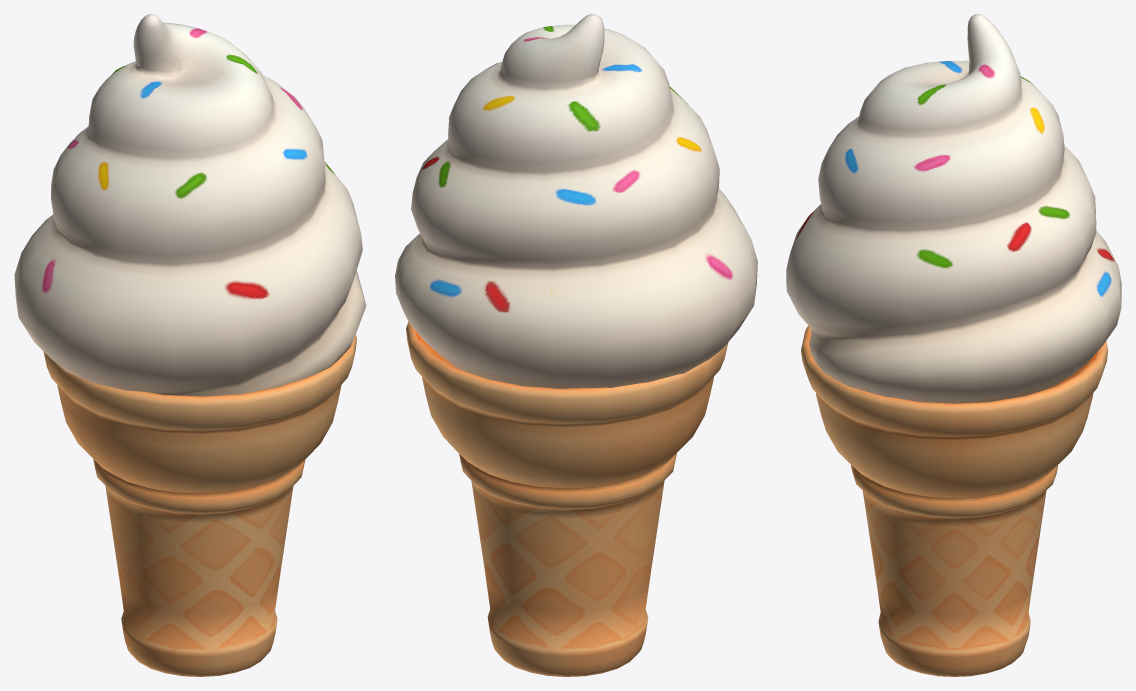
Rendered from BingQiLin4.FBX.
The picture shows the model from 3 angles, left to right: view 1: azimuth 30°, elevation 25°; view 2: azimuth 150°, elevation 25°; view 3: azimuth 270°, elevation 25°; orthographic projection. The views are drawn at different scales.
Visible parts, largest first — view 1: BingQiLin; view 2: BingQiLin; view 3: BingQiLin.
Part boxes in pixels (x1,y1,x2,y2): BingQiLin: (14,14,366,676); BingQiLin: (395,14,757,676); BingQiLin: (786,14,1121,676).
Size of the model in its own units: 52.37 by 104 by 50.96.
